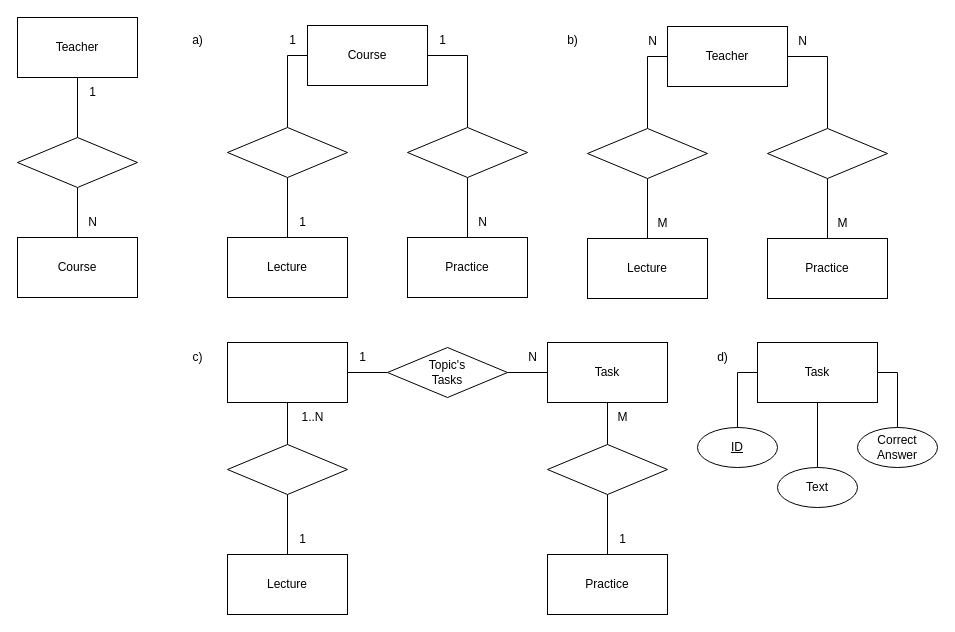
Some shapes in this 955 by 632 pixel diagram are drawn without their labels. The box of each missing label's shape, as (x1, y1, x2, y2) in pixels:
Course L ecture: (226, 126, 348, 178)
Course Practice: (406, 126, 528, 178)
L ecture's Topic: (226, 444, 348, 494)
Practice's Task: (546, 444, 668, 494)
Teacher is Assistant: (766, 128, 888, 178)
Teacher is Lecturer: (586, 128, 708, 178)
teaches: (16, 136, 138, 188)
Topic: (226, 342, 348, 402)
